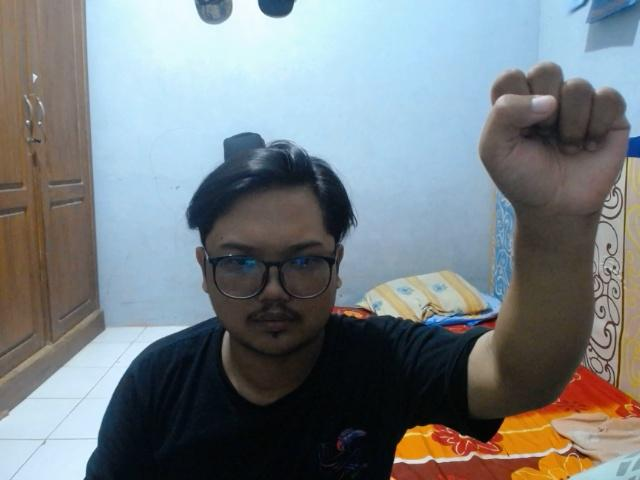Grab: (472, 56, 634, 217)
